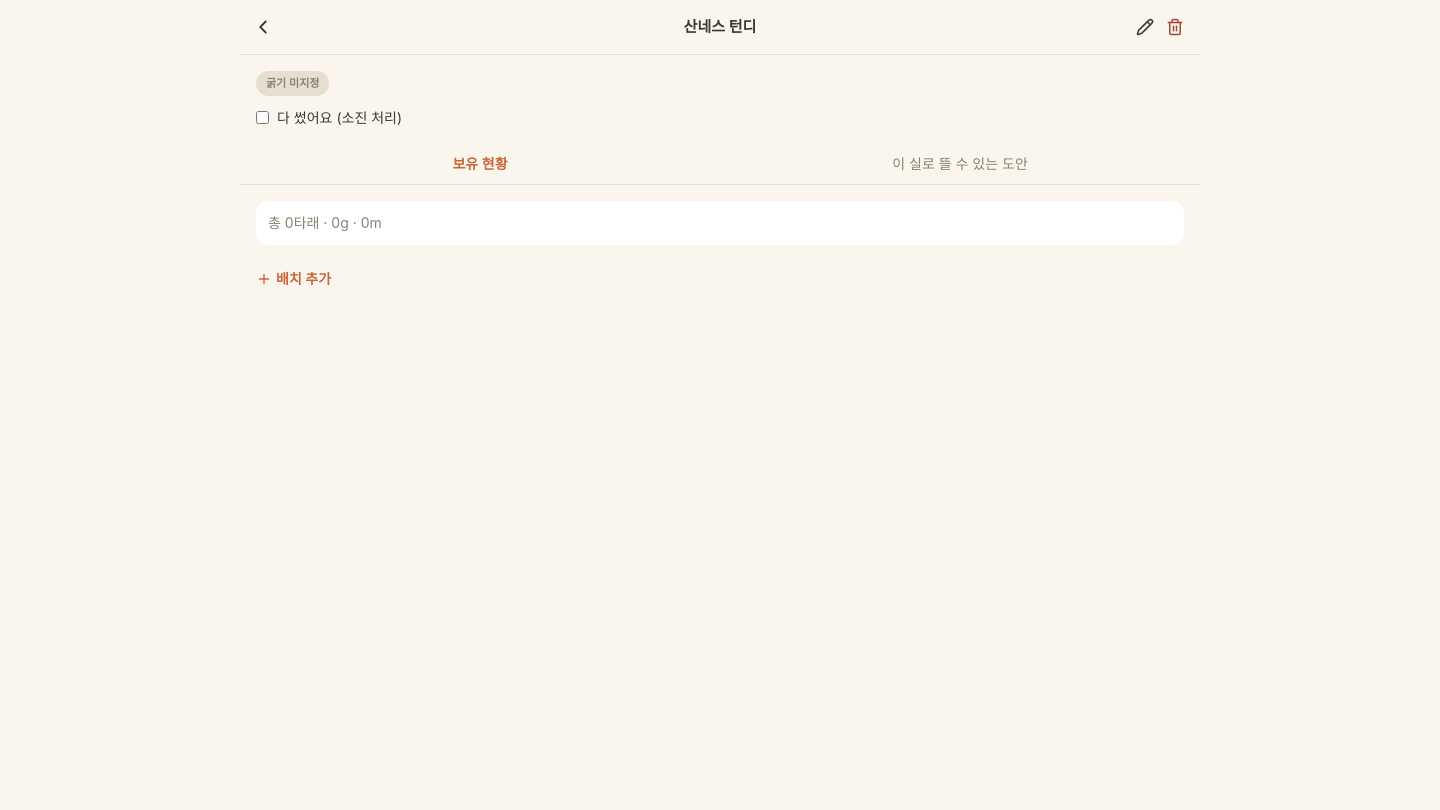
Test: YarnDetailPage 삭제 › 서버가 거부하면 사유를 토스트로 보여주고 화면에 남는다
This screenshot has width=1440, height=810.
Click the button named "삭제" at {"x": 1175, "y": 27}, box [1162,14,1188,40]
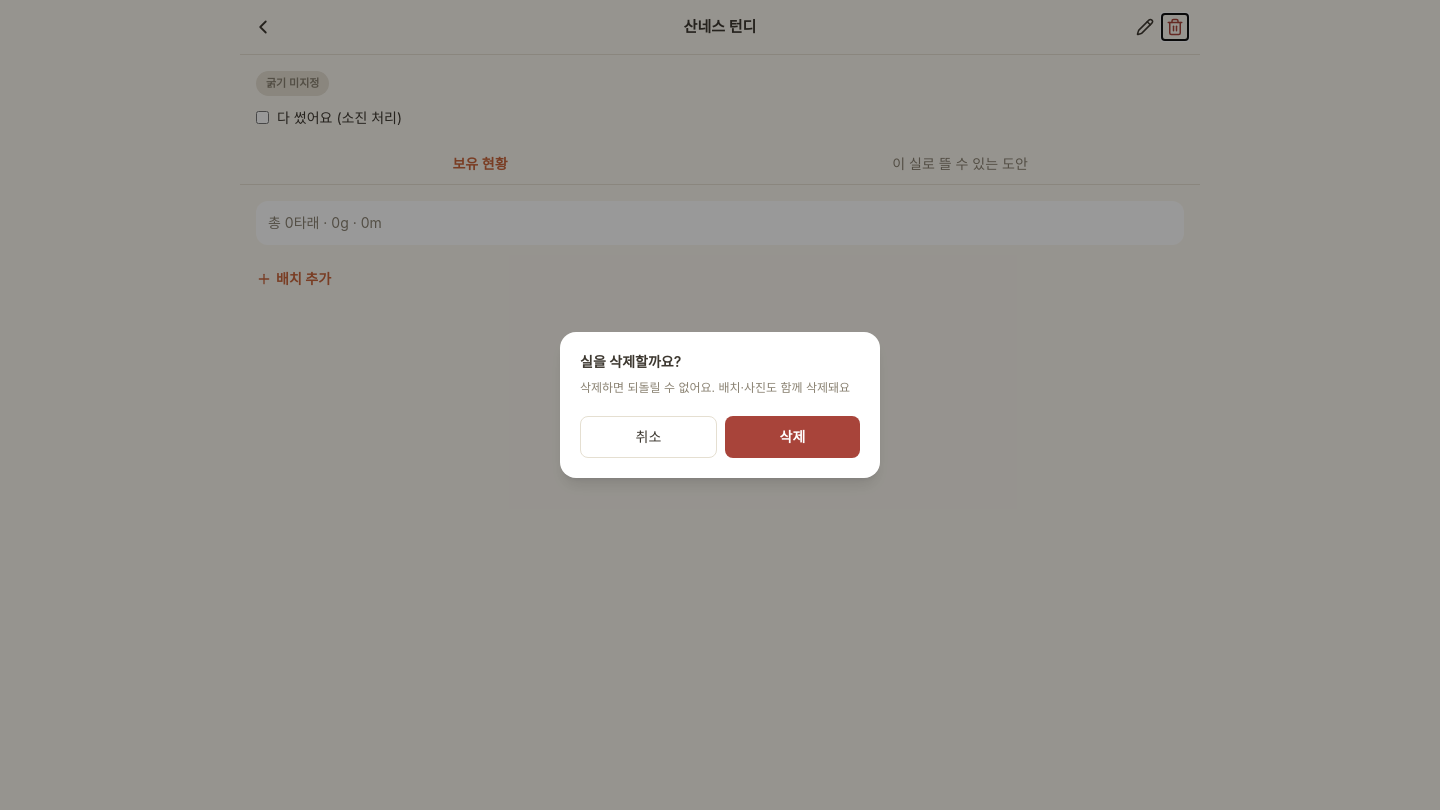
Click the button "삭제" at {"x": 792, "y": 437}, box [725,416,860,458]
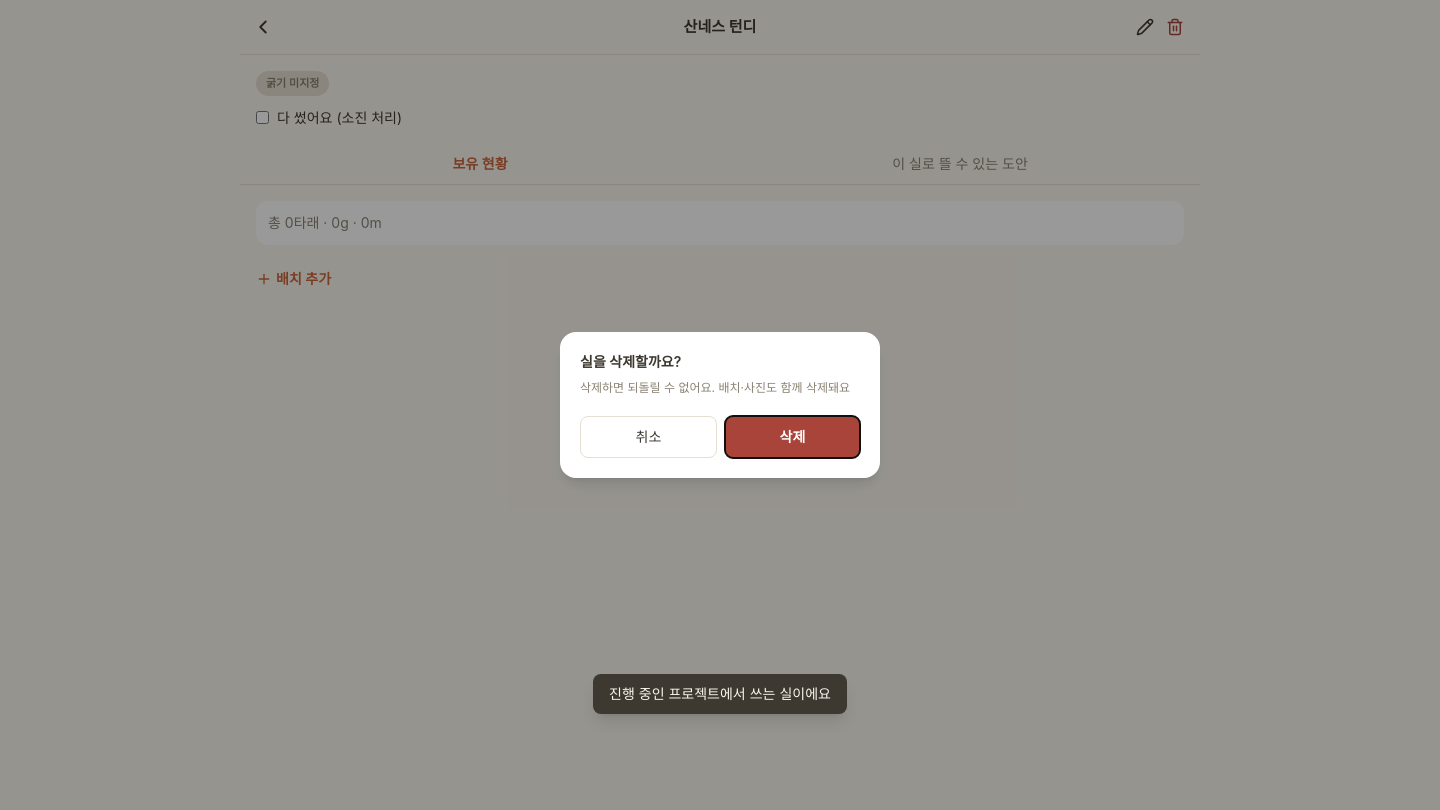
Expected: the message reads "진행 중인 프로젝트에서 쓰는 실이에요", [609,685,831,702]
